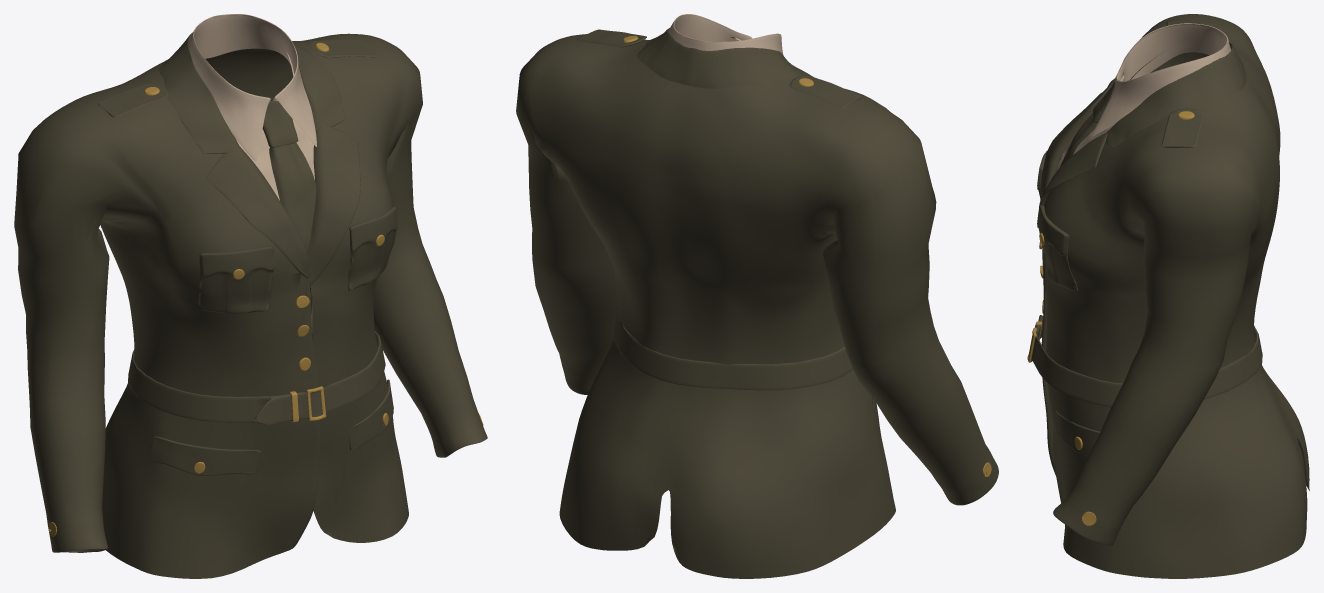
Rendered from coat-agsu-female.glb.
3 views of the same model, side by side, from view 1: azimuth 30°, elevation 25°; view 2: azimuth 150°, elevation 25°; view 3: azimuth 270°, elevation 25° (orthographic). The views are drawn at different scales.
Visible parts, largest first — view 1: Coat; view 2: Coat; view 3: Coat.
Boxes of the visible parts, x1,y1,x2,y2 form: Coat: [14, 14, 487, 578]; Coat: [516, 14, 998, 578]; Coat: [1027, 14, 1309, 578].
Bounding box in the file's own units: 25.91 × 28.65 × 15.45.
